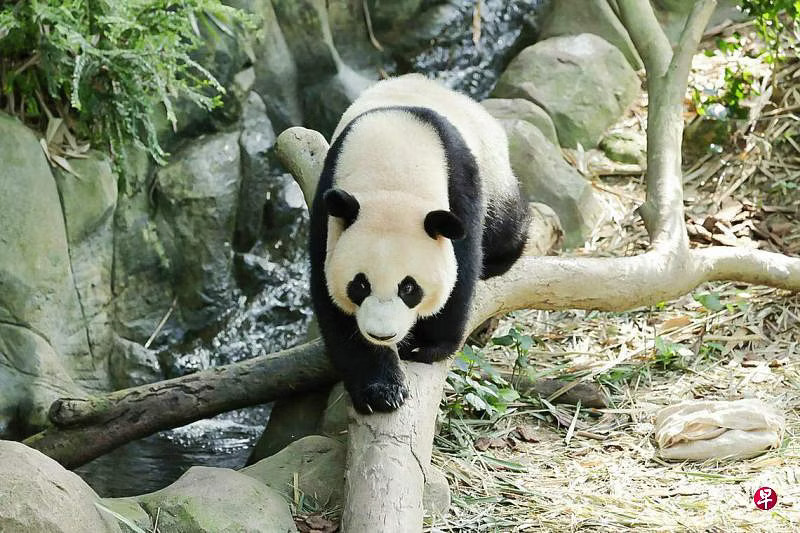Giant panda: (317, 188, 461, 346)
